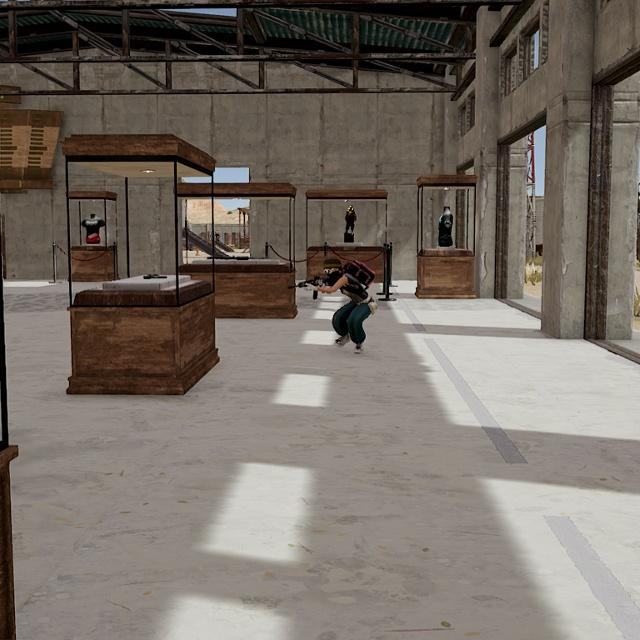head: (322, 255, 345, 281)
people: (320, 253, 378, 355)
